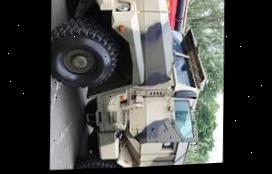truck: (47, 0, 214, 172)
